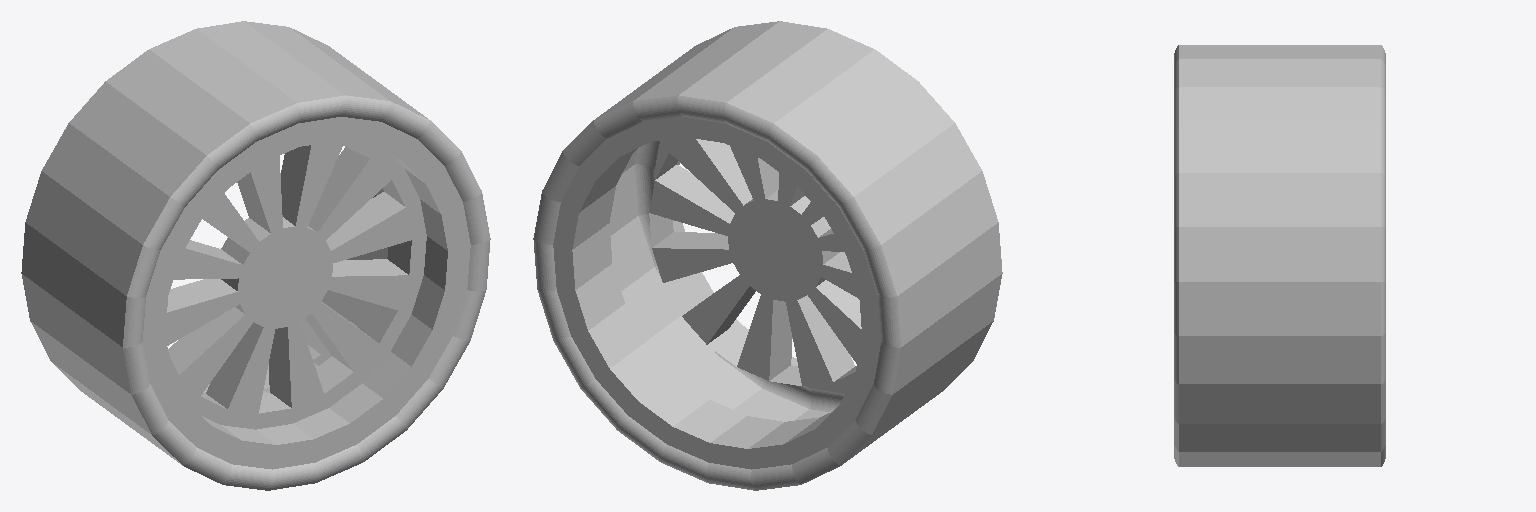
Rendered from left_Wheel.obj.
3 views of the same model, side by side, from view 1: azimuth 30°, elevation 25°; view 2: azimuth 150°, elevation 25°; view 3: azimuth 270°, elevation 25° (orthographic).
Visible parts, largest first — view 1: Mesh1 Group1 Model; view 2: Mesh1 Group1 Model; view 3: Mesh1 Group1 Model.
Part boxes in pixels (x1,y1,x2,y2): Mesh1 Group1 Model: (21, 21, 490, 490); Mesh1 Group1 Model: (533, 21, 1002, 490); Mesh1 Group1 Model: (1174, 45, 1385, 466).
Size of the model in its own units: 2.96 by 2.96 by 1.48.